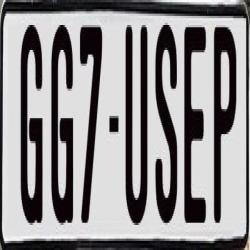7: (79, 25, 104, 223)
E: (182, 23, 205, 218)
G: (51, 25, 75, 227), (20, 23, 42, 236)
P: (212, 23, 235, 231)
S: (155, 21, 180, 229)
U: (125, 18, 147, 223)
